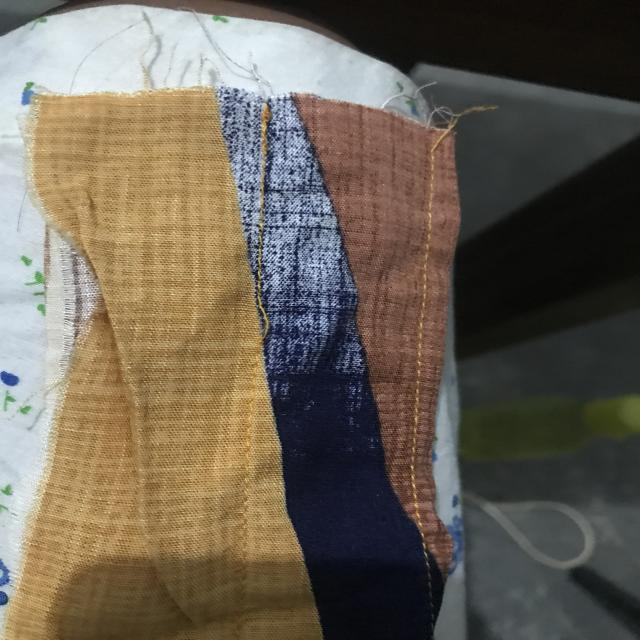skip: (244, 285, 278, 366)
